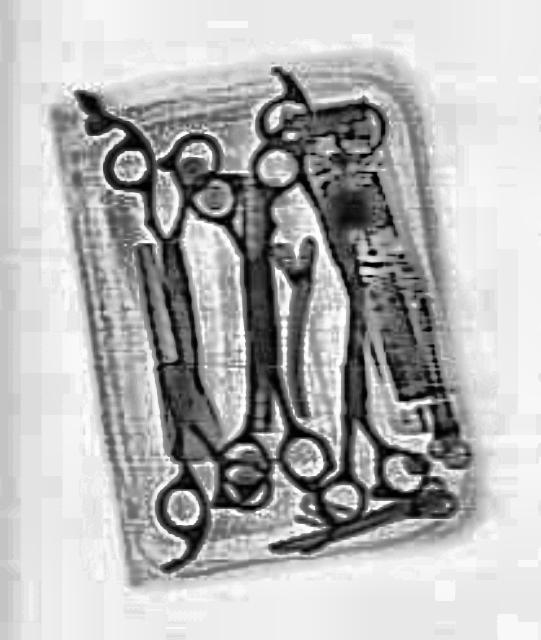Scissors: (80, 224, 274, 536), (190, 183, 329, 492), (97, 126, 251, 394), (292, 241, 426, 519), (180, 137, 321, 386)
